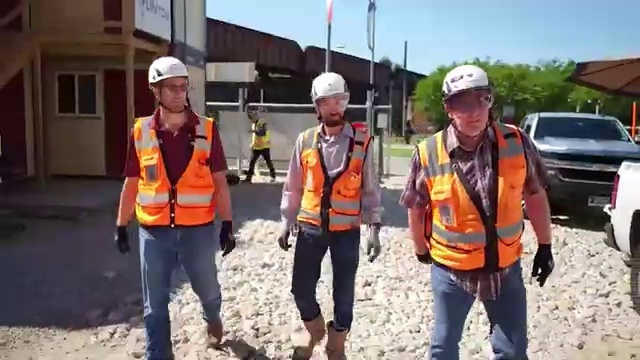helmet: (436, 62, 504, 96), (143, 55, 193, 86), (308, 67, 352, 100)
jacket: (416, 119, 536, 279), (125, 113, 224, 232), (300, 127, 369, 233)
